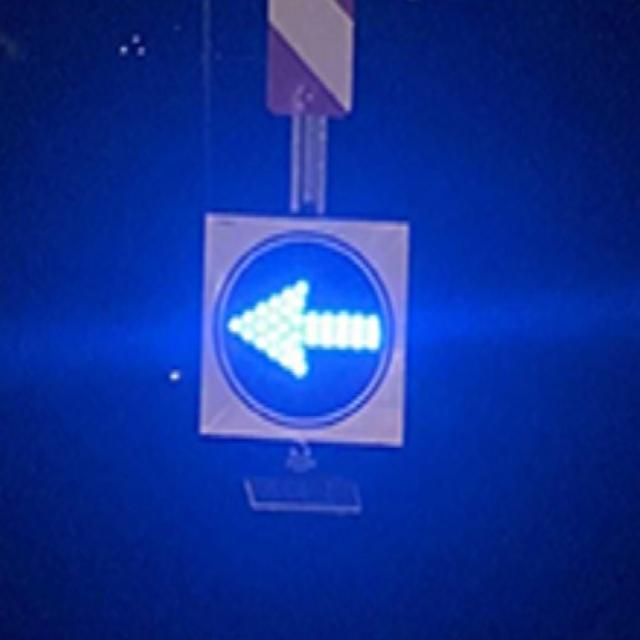Turn Left: (209, 227, 405, 430)
